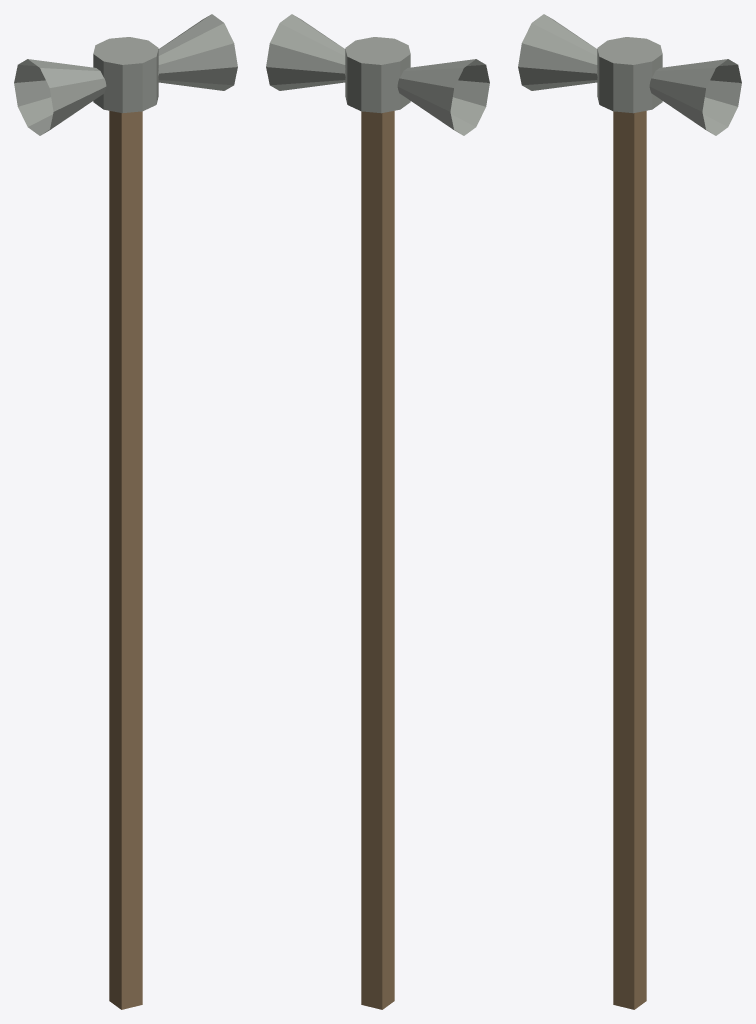
The model's file is siren.glb.
3 renders of one model, left to right at view 1: azimuth 30°, elevation 25°; view 2: azimuth 150°, elevation 25°; view 3: azimuth 330°, elevation 25°, orthographic.
Visible parts, largest first — view 1: siren; view 2: siren; view 3: siren.
Part boxes in pixels (x1,y1,x2,y2): siren: [14, 14, 237, 1009]; siren: [266, 14, 489, 1009]; siren: [518, 14, 741, 1009].
Size of the model in its own units: 1.4 by 6.98 by 0.52.
